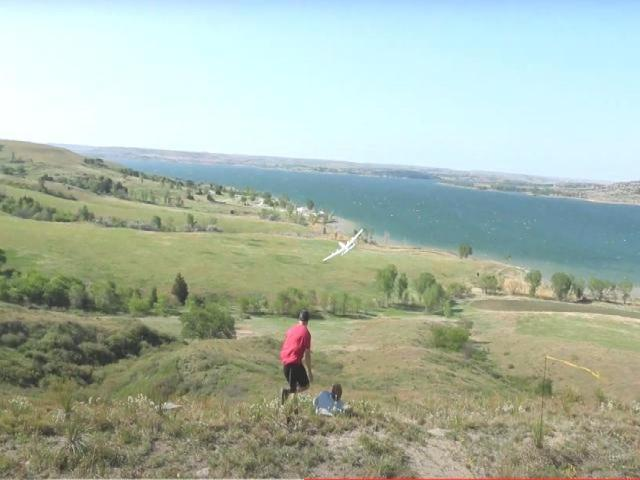iha: (321, 227, 364, 261)
